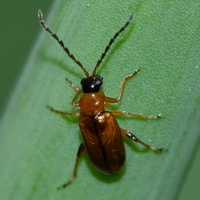insect: (38, 10, 166, 188)
